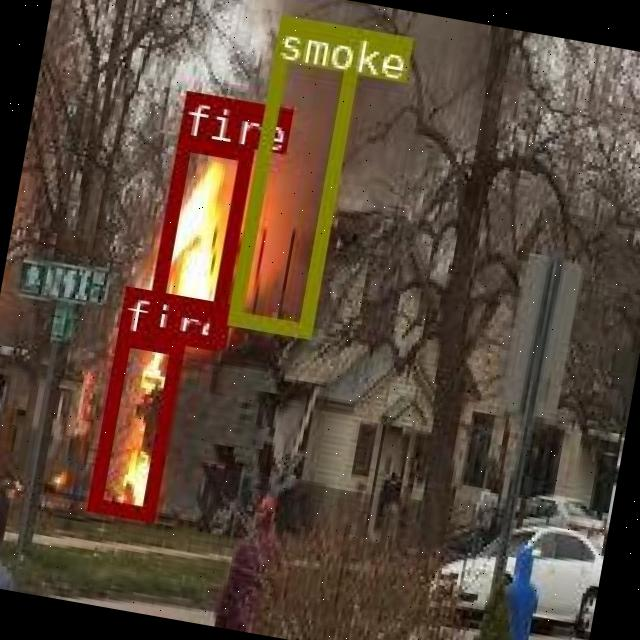fire: (142, 134, 251, 346), (86, 330, 181, 518)
smoke: (225, 11, 362, 333)
